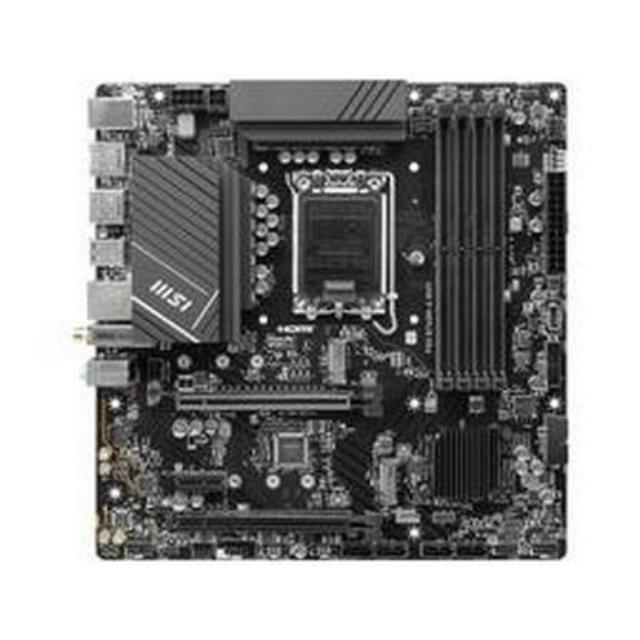Mainboard: (85, 71, 572, 568)
